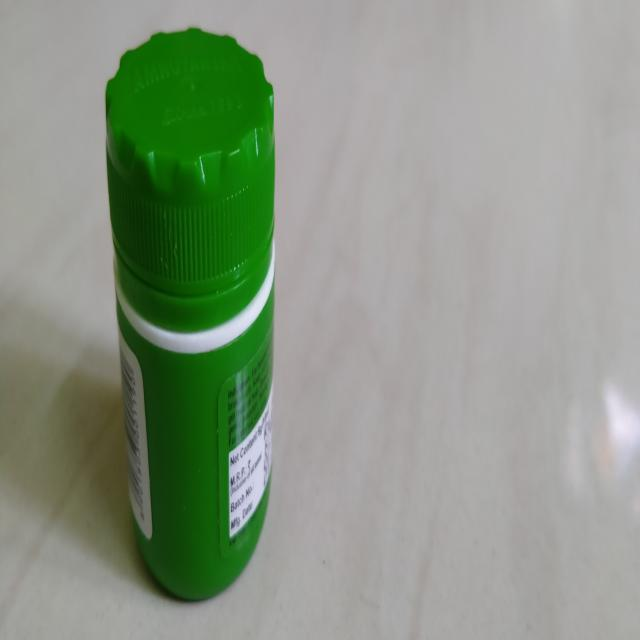eucalyptus oil: (97, 29, 278, 588)
